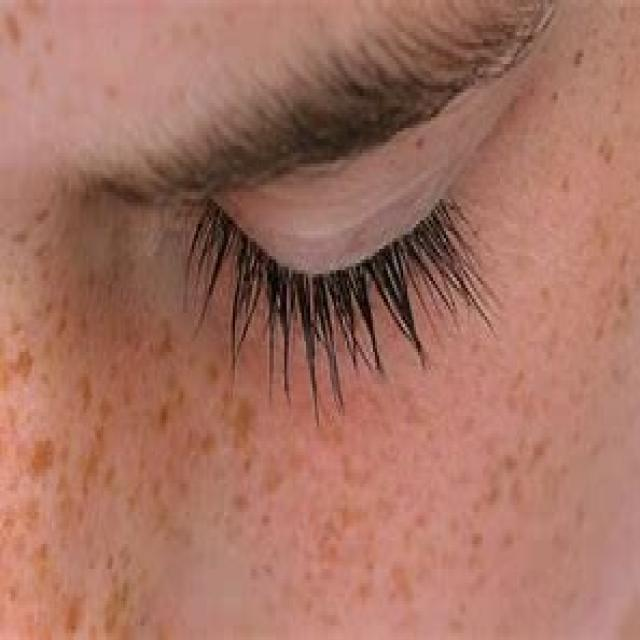pigmentation: (3, 323, 260, 602)
